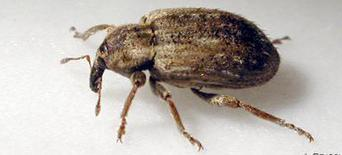weevils: (45, 1, 326, 155)
